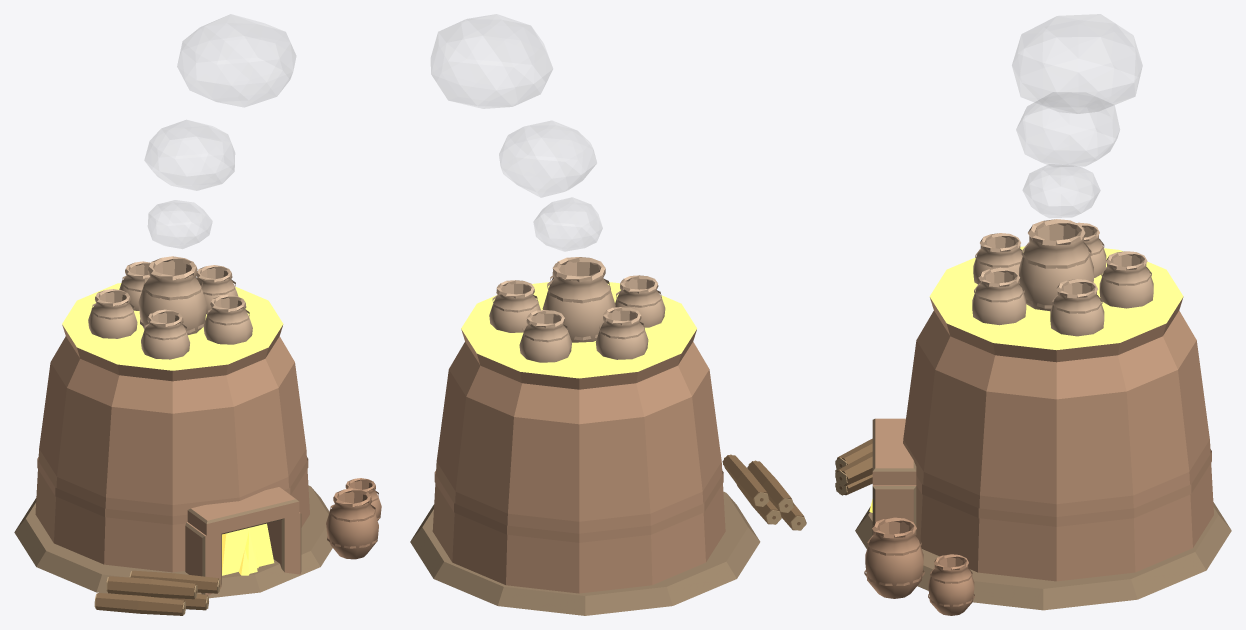
The model's file is asset_kiln_lit.glb.
3 views of the same model, side by side, from view 1: azimuth 30°, elevation 25°; view 2: azimuth 150°, elevation 25°; view 3: azimuth 270°, elevation 25° (orthographic). The views are drawn at different scales.
Parts seen in each view (by area): view 1: asset_kiln_lit; view 2: asset_kiln_lit; view 3: asset_kiln_lit.
Part boxes in pixels (x1,y1,x2,y2): asset_kiln_lit: (14, 14, 381, 615); asset_kiln_lit: (410, 14, 806, 615); asset_kiln_lit: (835, 14, 1231, 615).
Size of the model in its own units: 1.85 by 2.76 by 1.81.
